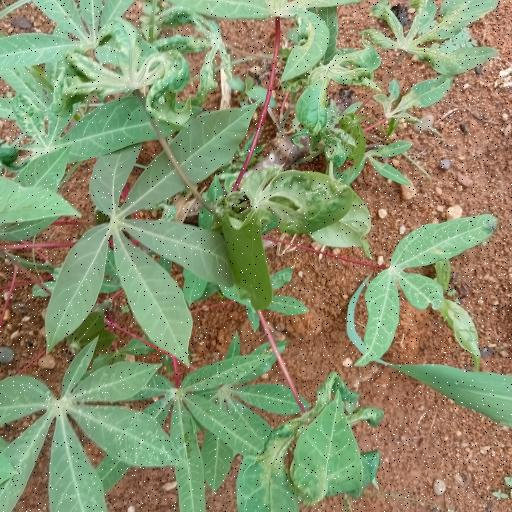Cassava_Mosaic: (0, 354, 160, 507), (366, 218, 498, 368), (63, 13, 195, 124), (0, 71, 141, 159), (372, 2, 506, 72)
